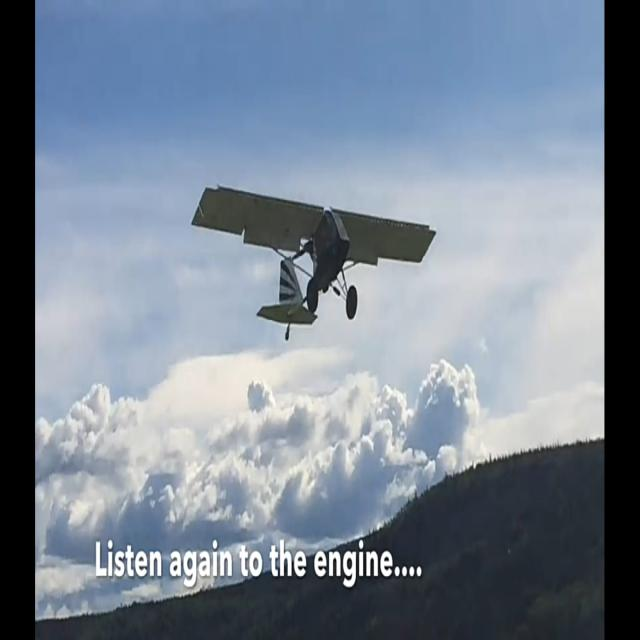iha: (190, 176, 436, 336)
